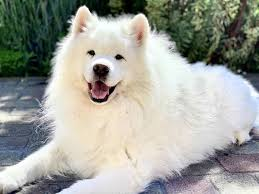dog: (1, 1, 259, 194)
